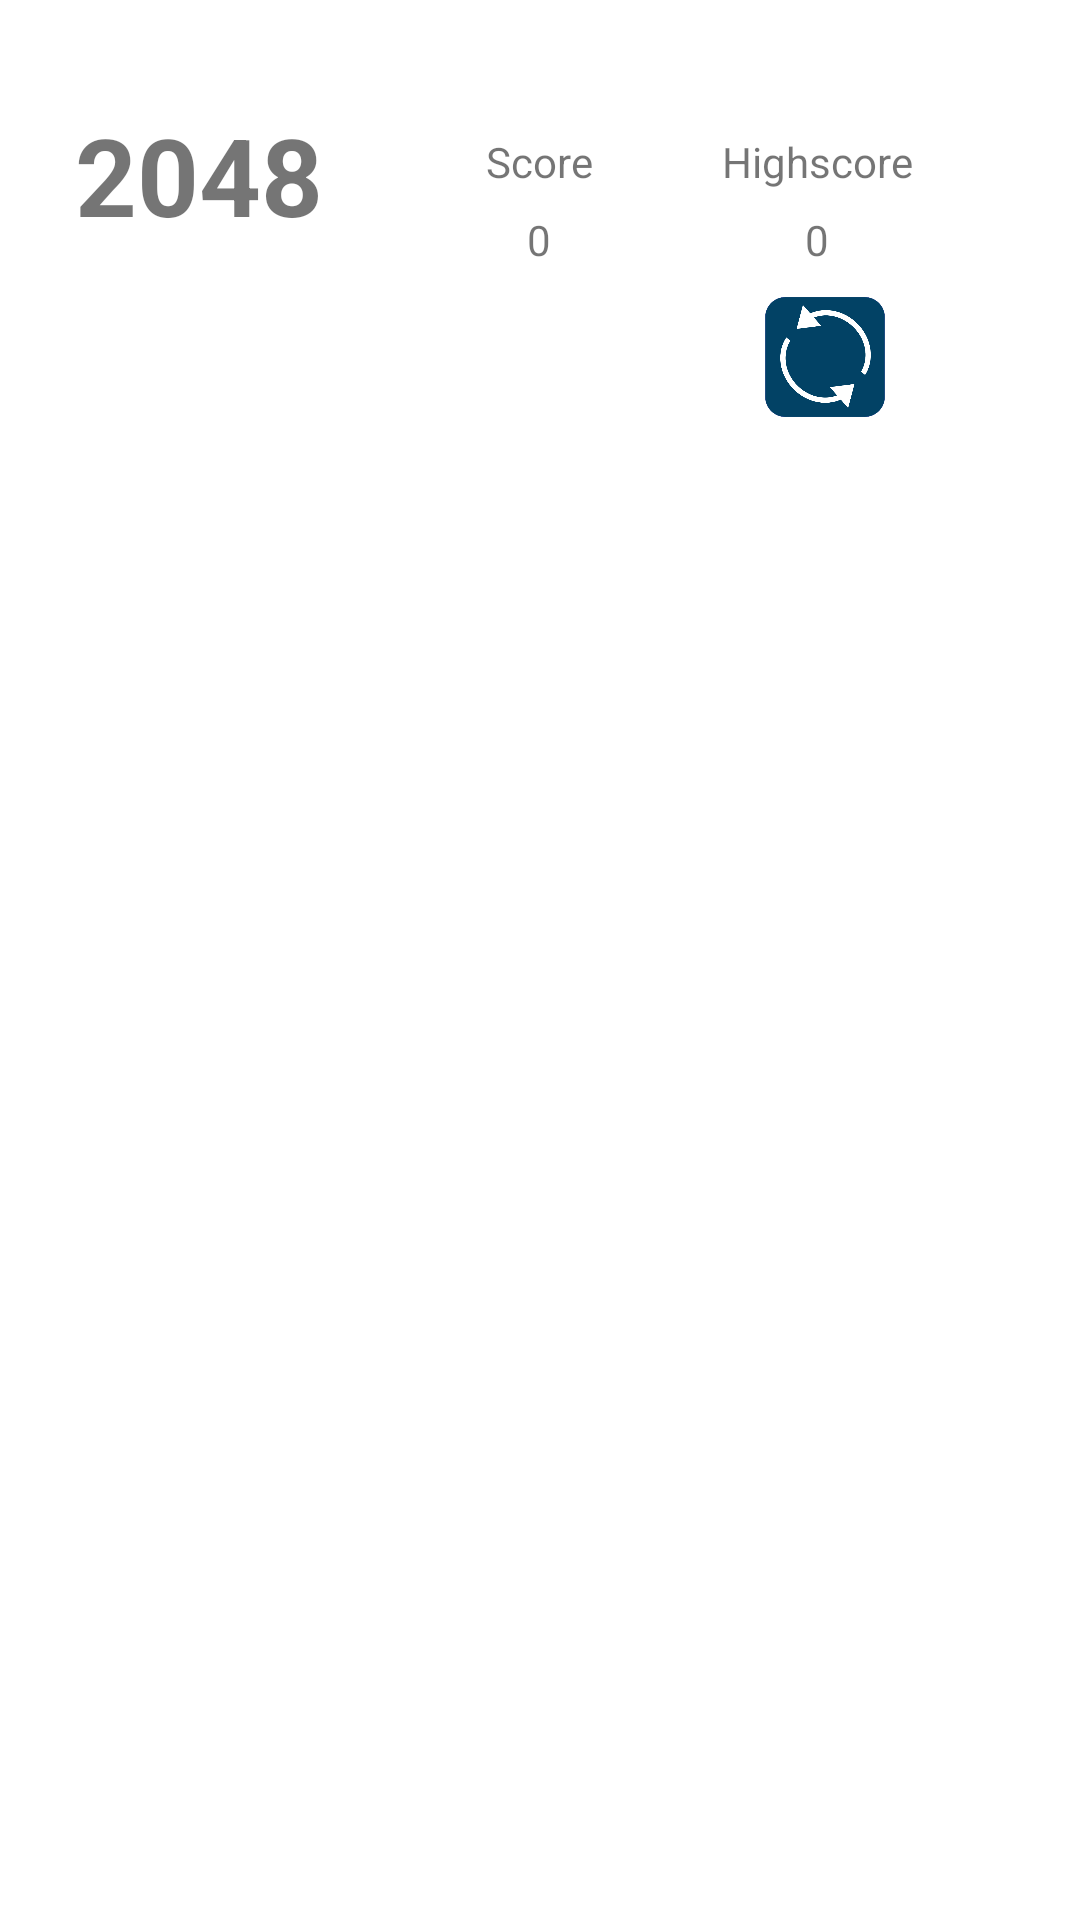

Named icons in this screenshot (1080px×1920px) and their bounding boxes, region(x1, y1, x2, y2):
restartbutton: region(765, 297, 885, 417)
